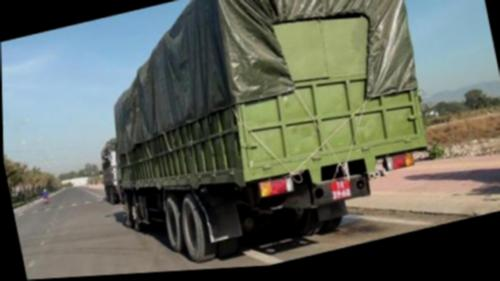License_Plate: (326, 175, 353, 201)
